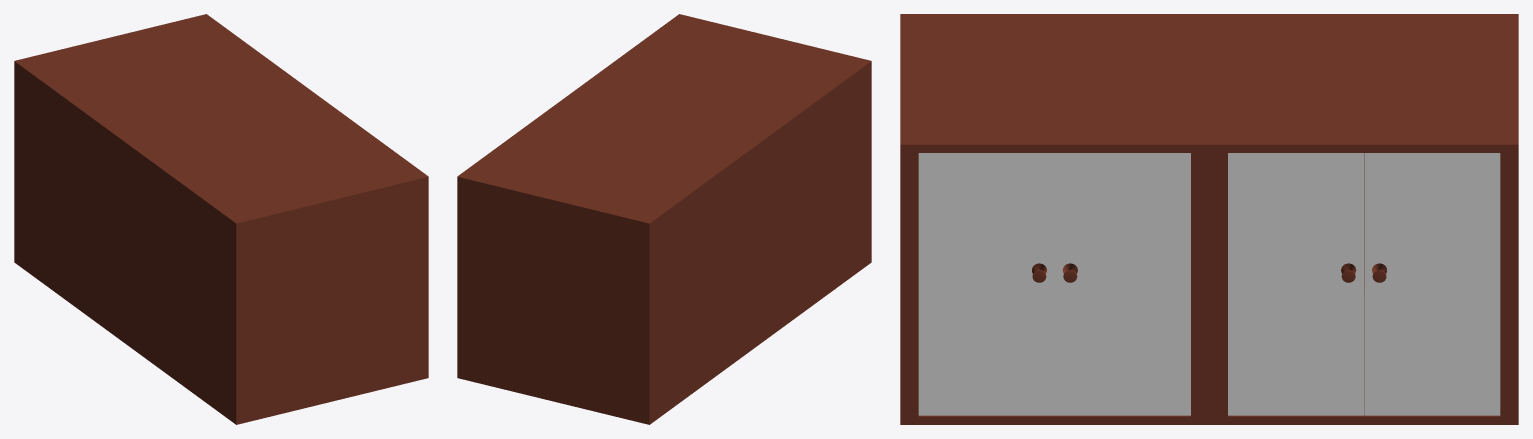
File: cabinet.fbx
3 renders of one model, left to right at view 1: azimuth 30°, elevation 25°; view 2: azimuth 150°, elevation 25°; view 3: azimuth 270°, elevation 25°, orthographic. The views are drawn at different scales.
Visible parts, largest first — view 1: cabinet; view 2: cabinet; view 3: cabinetDoor, cabinet.
Part boxes in pixels (x1,y1,x2,y2): cabinet: [14, 14, 428, 424]; cabinet: [457, 14, 871, 424]; cabinetDoor: [918, 153, 1500, 415]; cabinet: [900, 14, 1518, 424].
Size of the model in its own units: 83.58 by 80 by 160.
